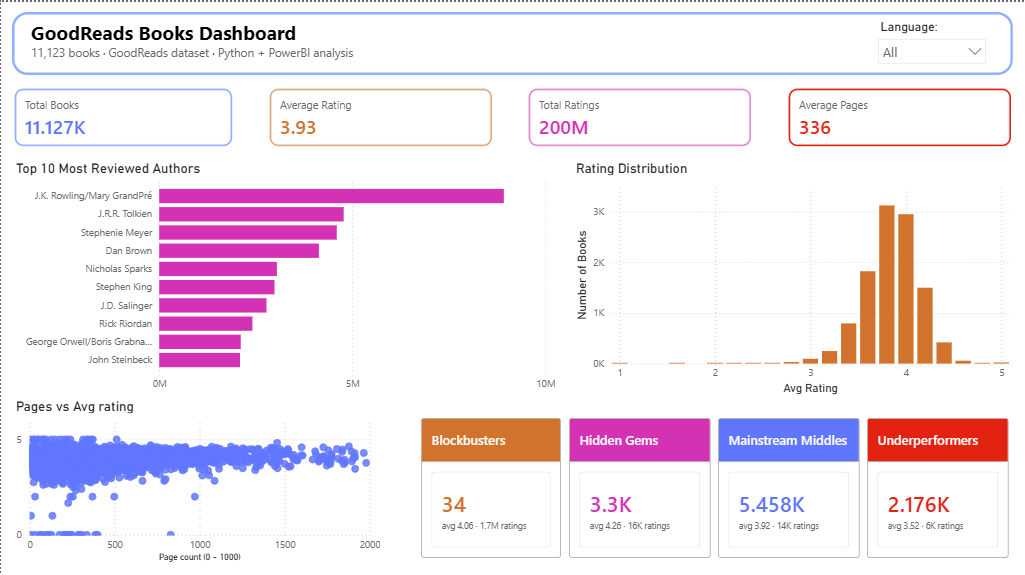

This screenshot's page, from the dashboard's own definition file:
{"tool":"powerbi","page":{"name":"Page 1","canvas":[1280,720],"ordinal":0},"visuals":[{"type":"shape","box":[13.8,12.5,1251.2,78.8],"z":0},{"type":"cardVisual","fields":{"Data":["CountNonNull(books.bookID)"]},"box":[0,91.2,306.2,106.2],"z":1000},{"type":"clusteredBarChart","title":"Top 10 Most Reviewed Authors","fields":{"Category":["books.authors"],"Y":["Sum(books.ratings_count)"]},"box":[13.8,197.5,683.8,297.5],"z":2000},{"type":"clusteredColumnChart","title":"Rating Distribution","fields":{"Y":["CountNonNull(books.bookID)"],"Category":["books.average_rating (bins)"]},"box":[713.8,197.5,551.2,297.5],"z":3000},{"type":"scatterChart","title":"Pages vs Avg rating","fields":{"X":["Sum(books.  num_pages)"],"Y":["Avg(books.average_rating)"],"Category":["books.title"]},"box":[13.8,495,465,210],"z":4000},{"type":"textbox","box":[32.5,16.2,1063.8,72.5],"z":5000},{"type":"slicer","fields":{"Values":["books.language_code"]},"box":[1086.2,16.2,155,67.5],"z":6000},{"type":"cardVisual","fields":{"Data":["Avg(books.average_rating)"]},"box":[318.3,91.2,312.5,106.2],"z":7000},{"type":"cardVisual","fields":{"Data":["Sum(books.ratings_count)"]},"box":[642.9,91.2,312.5,106.2],"z":8000},{"type":"cardVisual","fields":{"Data":["Avg(books.  num_pages)"]},"box":[967.5,91.2,312.5,106.2],"z":9000},{"type":"cardVisual","fields":{"Rows":["books_clustered.cluster_label"],"Data":["CountNonNull(books_clustered.title)"]},"box":[520,495,185,225],"z":10000},{"type":"cardVisual","fields":{"Data":["CountNonNull(books_clustered.title)"],"Rows":["books_clustered.cluster_label"]},"box":[705,495,187.5,225],"z":11000},{"type":"cardVisual","fields":{"Data":["CountNonNull(books_clustered.title)"],"Rows":["books_clustered.cluster_label"]},"box":[891.2,495,187.5,225],"z":12000},{"type":"cardVisual","fields":{"Data":["CountNonNull(books_clustered.title)"],"Rows":["books_clustered.cluster_label"]},"box":[1077.5,495,187.5,225],"z":13000}]}

Visuals, with their boxes in screenshot pixels (x1, y1, x2, y2), scaled from the page's 1280x720 canvas onto the 1025x575 screenshot:
shape: x1=11 y1=10 x2=1013 y2=73
cardVisual - CountNonNull(books.bookID): x1=0 y1=73 x2=245 y2=158
"Top 10 Most Reviewed Authors" clusteredBarChart: x1=11 y1=158 x2=559 y2=395
"Rating Distribution" clusteredColumnChart: x1=572 y1=158 x2=1013 y2=395
"Pages vs Avg rating" scatterChart: x1=11 y1=395 x2=383 y2=563
textbox: x1=26 y1=13 x2=878 y2=71
slicer - books.language_code: x1=870 y1=13 x2=994 y2=67
cardVisual - Avg(books.average_rating): x1=255 y1=73 x2=505 y2=158
cardVisual - Sum(books.ratings_count): x1=515 y1=73 x2=765 y2=158
cardVisual - Avg(books.  num_pages): x1=775 y1=73 x2=1024 y2=158
cardVisual - books_clustered.cluster_label x CountNonNull(books_clustered.title): x1=416 y1=395 x2=565 y2=574
cardVisual - CountNonNull(books_clustered.title) x books_clustered.cluster_label: x1=565 y1=395 x2=715 y2=574
cardVisual - CountNonNull(books_clustered.title) x books_clustered.cluster_label: x1=714 y1=395 x2=864 y2=574
cardVisual - CountNonNull(books_clustered.title) x books_clustered.cluster_label: x1=863 y1=395 x2=1013 y2=574
